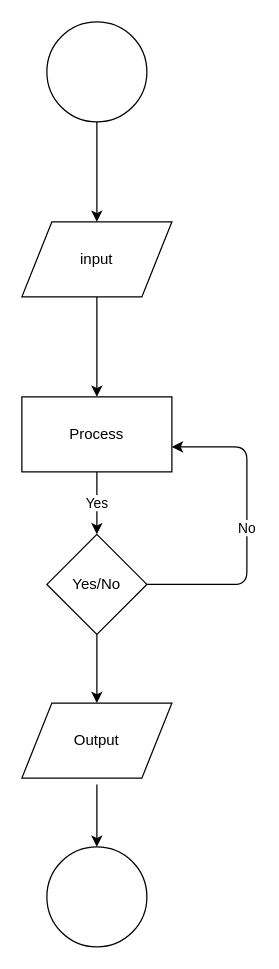
The diagram is 279 pixels wide and 969 high, and some of its shapes have lost their labels. The centre of each missing label's shape, as x and y in pixels:
End: (x=96, y=896)
start: (x=96, y=71)
